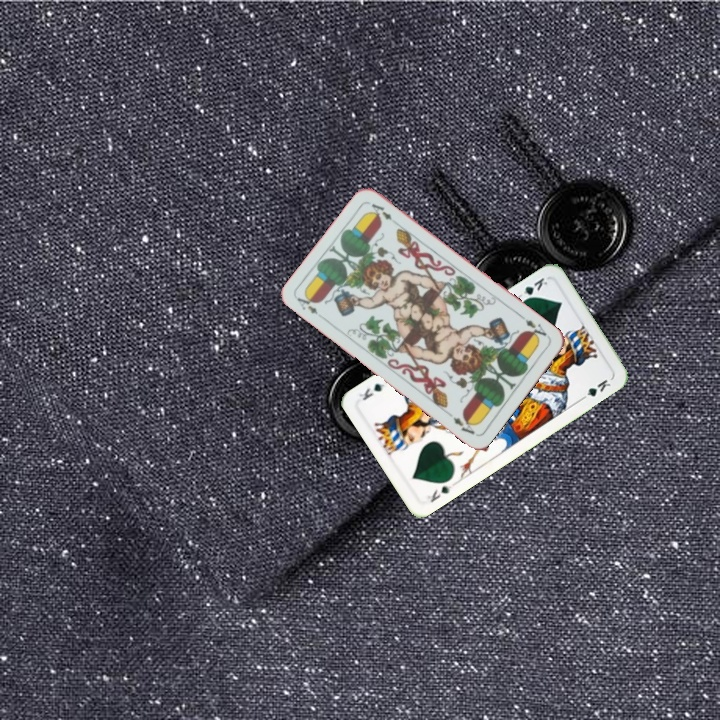EA: (293, 290, 328, 322), (521, 315, 552, 343)
GK: (513, 273, 550, 305), (423, 481, 454, 505)
